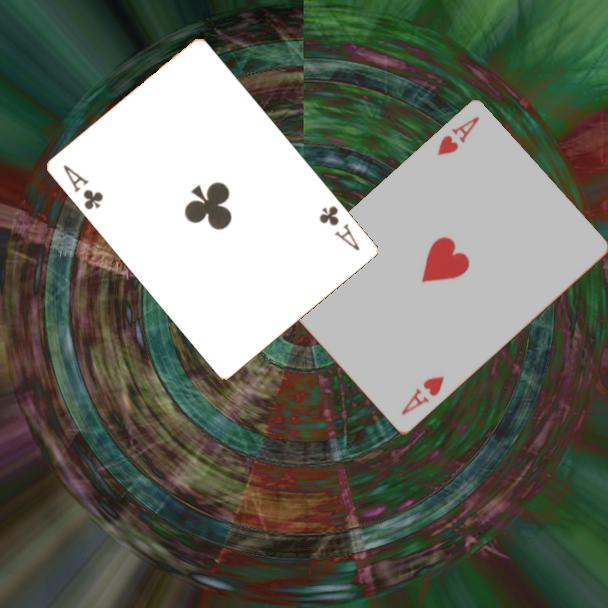c01: (316, 202, 363, 254), (60, 161, 107, 213)
h01: (398, 373, 447, 419), (433, 113, 482, 159)
